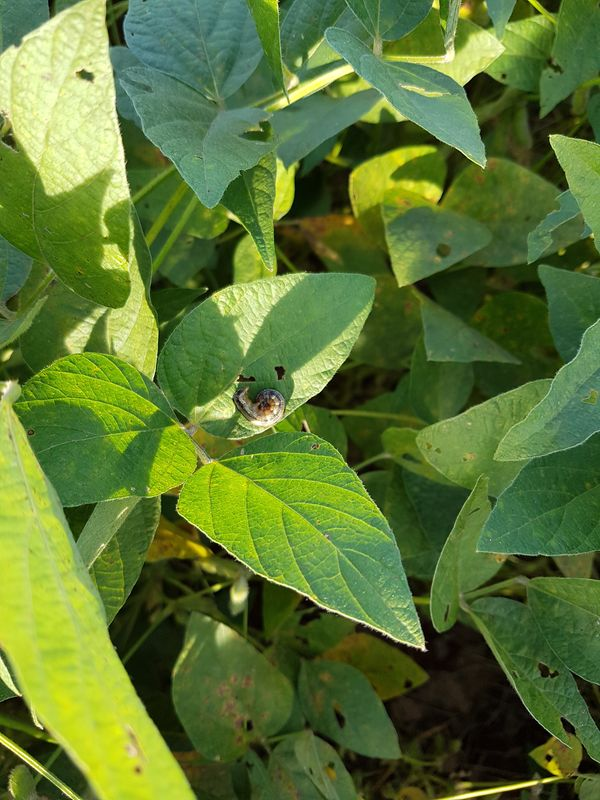Spodoptera_albula: (224, 375, 296, 437)
